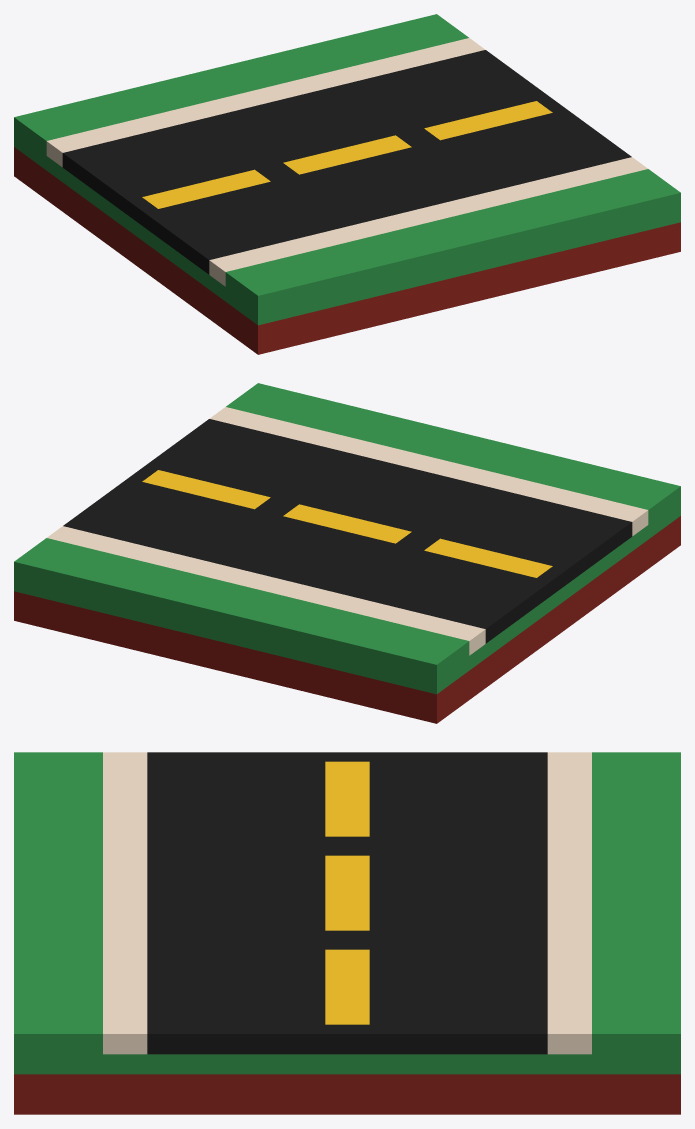
The model's file is RaodP1.obj.
The picture shows the model from 3 angles, top to bottom: view 1: azimuth 30°, elevation 25°; view 2: azimuth 150°, elevation 25°; view 3: azimuth 270°, elevation 25°; orthographic projection. The views are drawn at different scales.
Size of the model in its own units: 3 by 0.4 by 3.
1 material, 1 textured.
